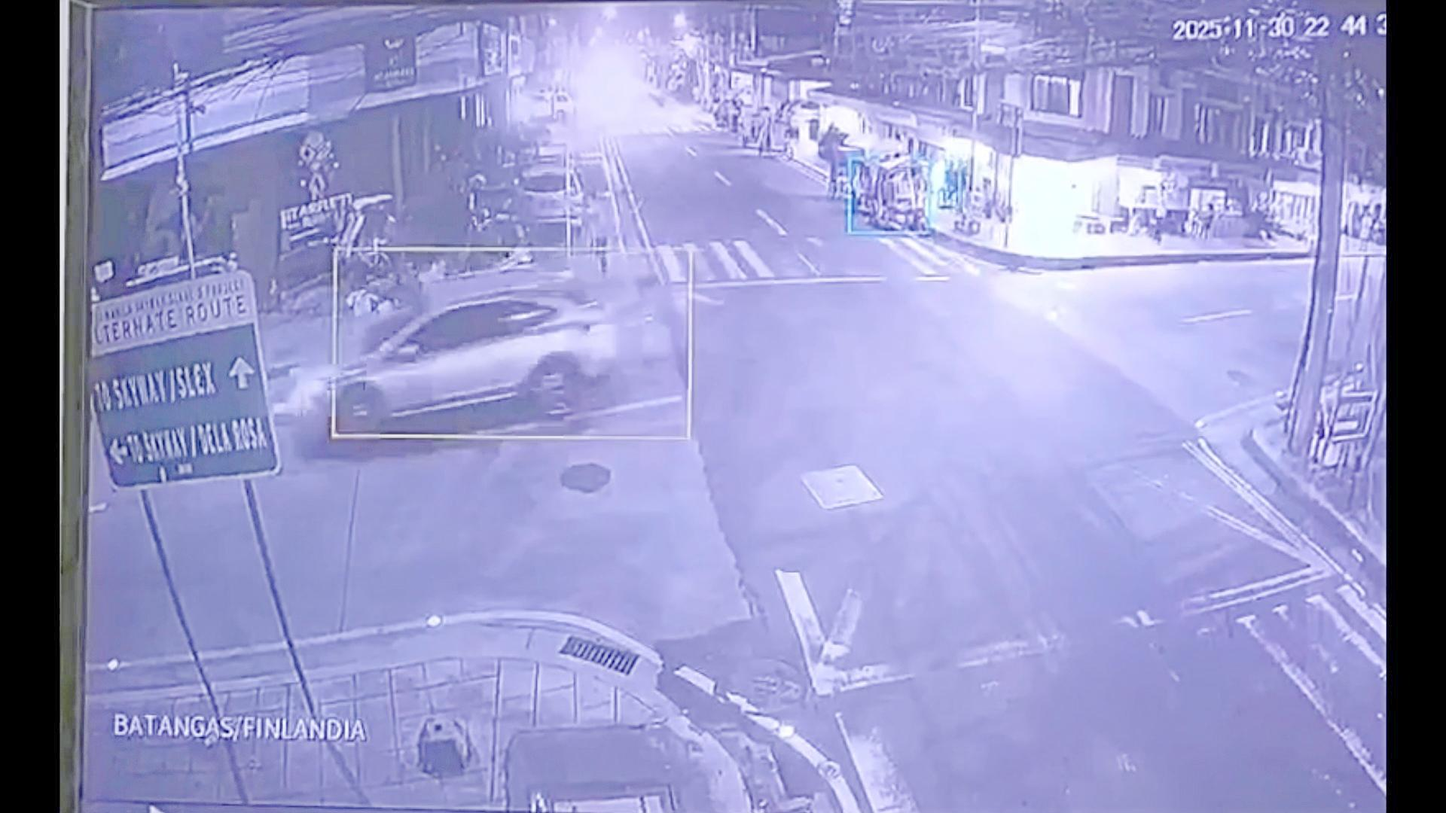Car: (288, 285, 629, 451)
